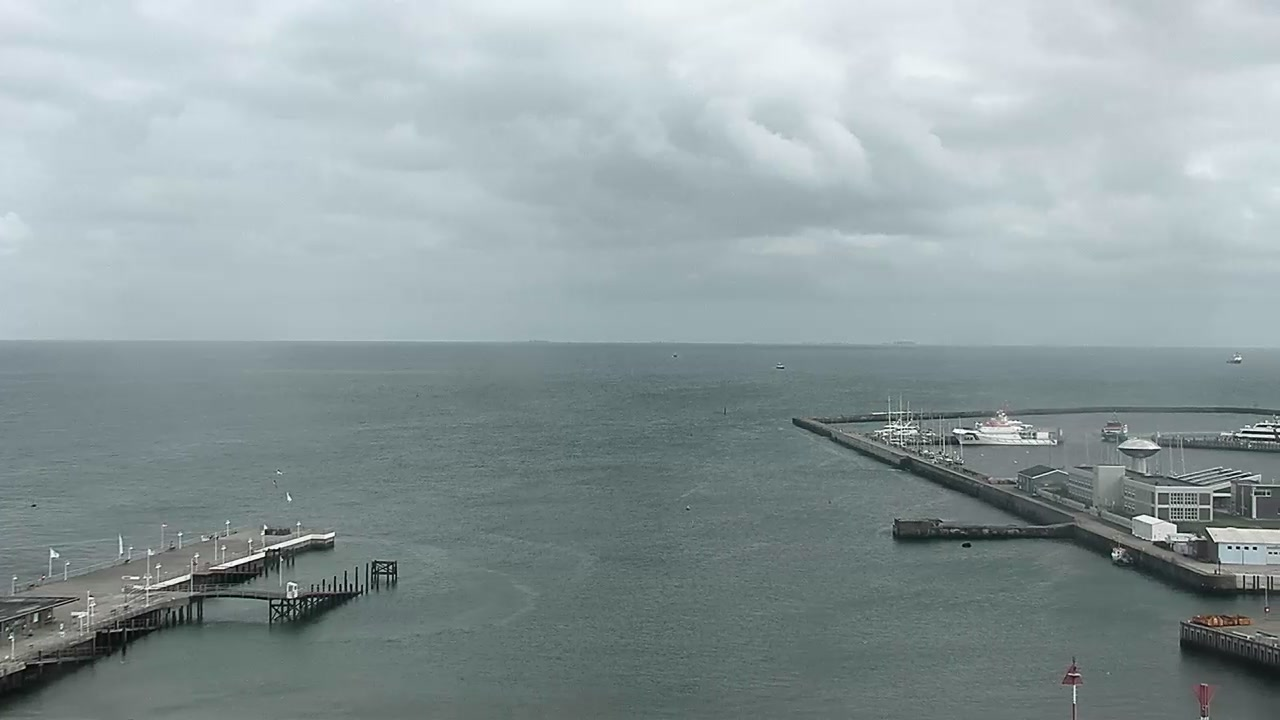sea: (951, 397, 1063, 447), (1218, 410, 1280, 442), (939, 414, 963, 463), (885, 392, 906, 448), (872, 418, 936, 436), (929, 415, 953, 459), (915, 406, 934, 457), (1100, 409, 1128, 442), (1164, 438, 1180, 479), (1110, 543, 1133, 567), (1227, 350, 1243, 364), (775, 360, 786, 370), (671, 351, 678, 359)
